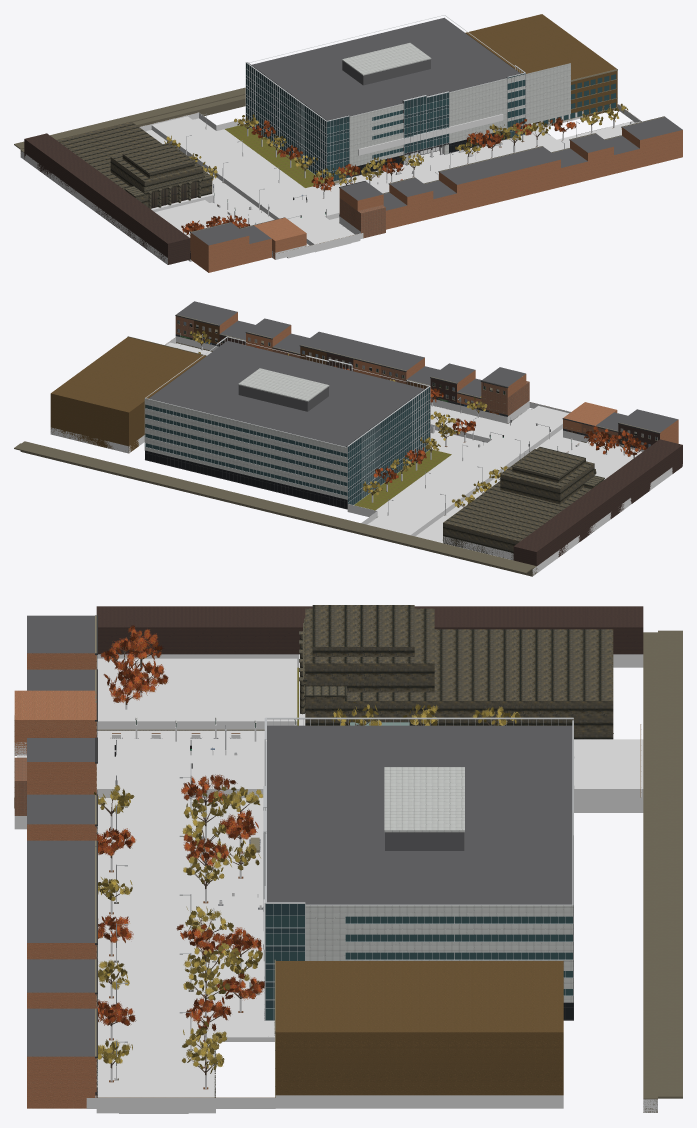
File: espum.glb
3 views of the same model, one above another, from view 1: azimuth 30°, elevation 25°; view 2: azimuth 150°, elevation 25°; view 3: azimuth 270°, elevation 25° (orthographic). The views are drawn at different scales.
Parts seen in each view (by area): view 1: espum_toit_lm2, espum_brique_b_lm2, espum_panneau_lm2, espum_carreau_bleu, espum_brique_beige_lm2, NAV_mesh, espum_brique_c_lm2, espum_pierre_calcaire_lm2, TRIGGER_sol_asphalte_jean_talon, espum_alu_clair_lm2, espum_tympan, espum_feuillage_fevier_lm2 (+12 smaller); view 2: espum_toit_lm2, espum_brique_beige_lm2, espum_panneau_lm2, espum_pierre_calcaire_lm2, espum_carreau_bleu, espum_brique_c_lm2, espum_beton_talus_lm2, TRIGGER_sol_asphalte_jean_talon, espum_alu_clair_lm2, NAV_mesh, espum_brique_b_lm2, TRIGGER_sol_asphalte_parc (+14 smaller); view 3: espum_toit_lm2, espum_brique_beige_lm2, espum_pierre_calcaire_lm2, NAV_mesh, TRIGGER_sol_asphalte_parc, espum_beton_talus_lm2, espum_panneau_lm2, espum_brique_c_lm2, espum_brique_b_lm2, TRIGGER_sol_gazon_place, espum_feuillage_erable_lm2, espum_feuillage_fevier_lm2 (+11 smaller).
Part boxes in pixels (x1,y1,x2,y2): espum_toit_lm2: [191, 17, 682, 245]; espum_brique_b_lm2: [190, 127, 682, 272]; espum_panneau_lm2: [342, 43, 570, 166]; espum_carreau_bleu: [246, 69, 615, 180]; espum_brique_beige_lm2: [465, 14, 617, 126]; NAV_mesh: [145, 118, 634, 246]; espum_brique_c_lm2: [24, 133, 190, 264]; espum_pierre_calcaire_lm2: [56, 121, 212, 207]; TRIGGER_sol_asphalte_jean_talon: [151, 116, 350, 246]; espum_alu_clair_lm2: [245, 15, 525, 180]; espum_tympan: [246, 63, 525, 180]; espum_feuillage_fevier_lm2: [164, 103, 628, 185]; espum_toit_lm2: [148, 301, 677, 446]; espum_brique_beige_lm2: [50, 337, 205, 453]; espum_panneau_lm2: [144, 368, 347, 499]; espum_pierre_calcaire_lm2: [443, 447, 603, 559]; espum_carreau_bleu: [145, 393, 429, 504]; espum_brique_c_lm2: [219, 335, 682, 572]; espum_beton_talus_lm2: [14, 441, 536, 576]; TRIGGER_sol_asphalte_jean_talon: [374, 405, 568, 536]; espum_alu_clair_lm2: [145, 333, 430, 504]; NAV_mesh: [176, 343, 585, 542]; espum_brique_b_lm2: [219, 312, 678, 443]; TRIGGER_sol_asphalte_parc: [166, 342, 547, 447]; espum_toit_lm2: [27, 615, 572, 1056]; espum_brique_beige_lm2: [275, 961, 563, 1095]; espum_pierre_calcaire_lm2: [305, 605, 613, 739]; NAV_mesh: [98, 730, 639, 1097]; TRIGGER_sol_asphalte_parc: [119, 755, 188, 1110]; espum_beton_talus_lm2: [643, 630, 682, 1112]; espum_panneau_lm2: [305, 767, 573, 1002]; espum_brique_c_lm2: [96, 606, 643, 654]; espum_brique_b_lm2: [14, 653, 96, 1108]; TRIGGER_sol_gazon_place: [97, 658, 297, 729]; espum_feuillage_erable_lm2: [96, 625, 264, 1031]; espum_feuillage_fevier_lm2: [94, 702, 522, 1073].
Bounding box in the file's own units: 222 × 30.35 × 135.
164 materials, 62 textured.
